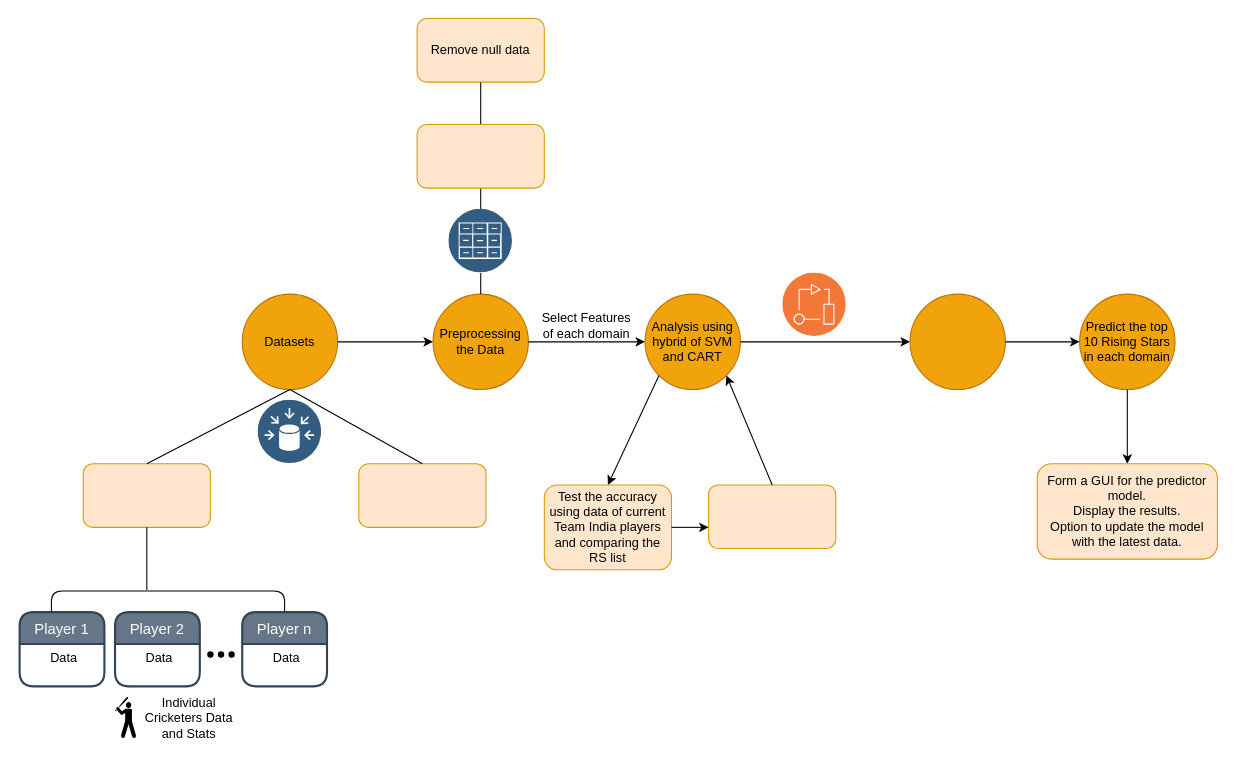
Image size: 1236x759. Some labels were removed from this diagram. The centre of each missing label's shape, as x and y in pixels:
"Clusters" goes at pixel 957 341.
"Keep the required data for the analysis" goes at pixel 480 155.
"Live Data" goes at pixel 146 495.
"Preloaded Dataset" goes at pixel 422 495.
"Proceed with predicting the Rising Stars" goes at pixel 772 516.
